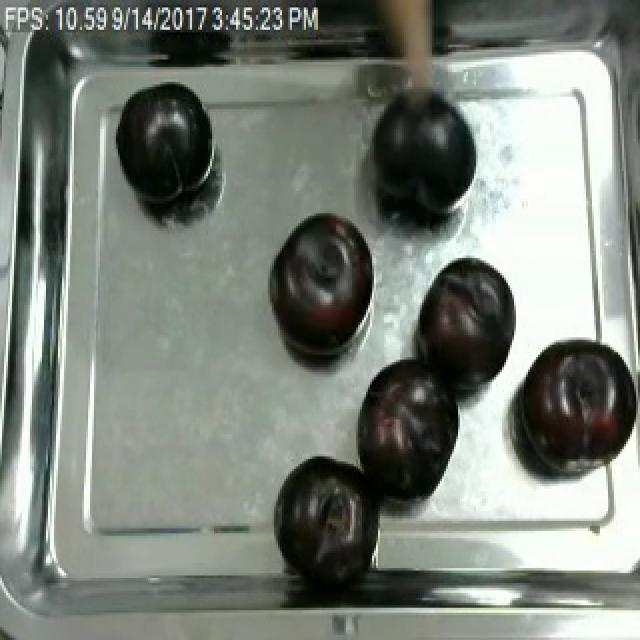Fruit: (348, 349, 466, 508), (512, 335, 634, 484), (262, 208, 378, 362), (362, 87, 484, 231), (410, 253, 522, 397), (110, 77, 218, 213), (272, 452, 376, 570)
